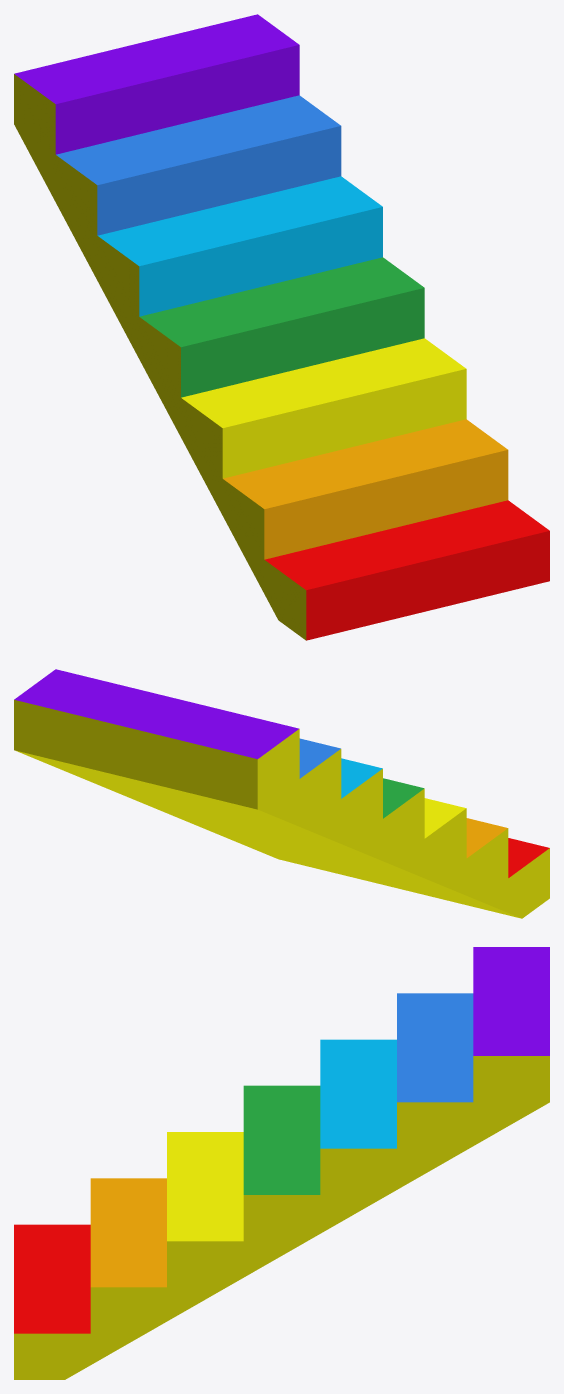
The model's file is Lader1.fbx.
The picture shows the model from 3 angles, top to bottom: view 1: azimuth 30°, elevation 25°; view 2: azimuth 150°, elevation 25°; view 3: azimuth 270°, elevation 25°; orthographic projection. The views are drawn at different scales.
Parts seen in each view (by area): view 1: Lader1; view 2: Lader1; view 3: Lader1.
Part boxes in pixels (<box>): Lader1: <box>14,14,549,640</box>; Lader1: <box>14,669,549,918</box>; Lader1: <box>14,947,549,1379</box>.
Size of the model in its own units: 5.06 by 7 by 10.5.
